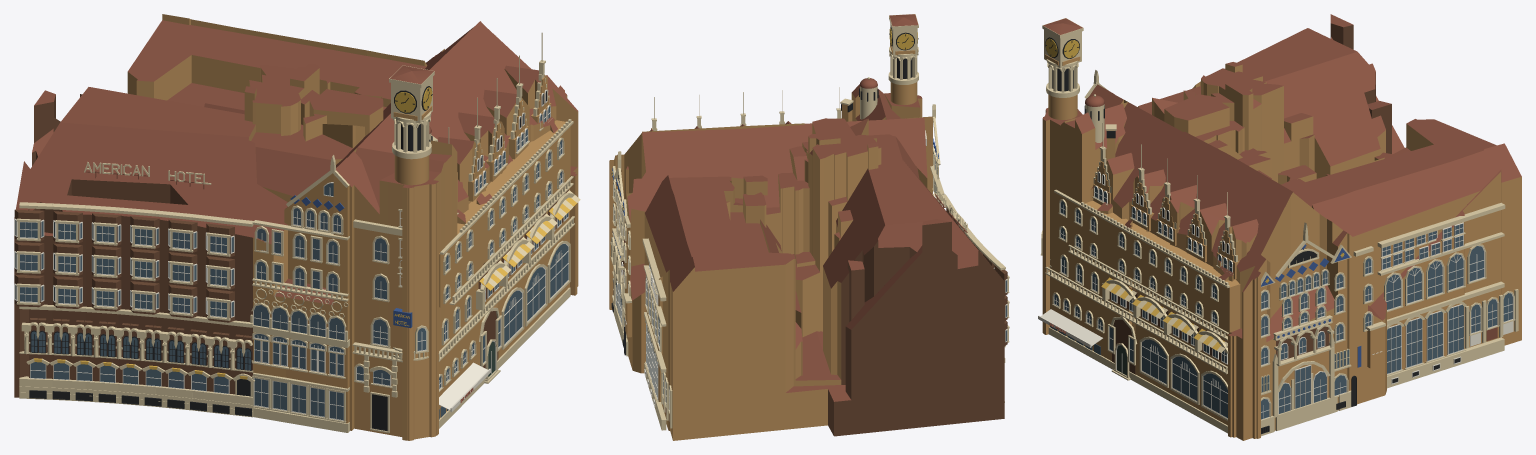
Rendered from american-hotel.glb.
3 renders of one model, left to right at view 1: azimuth 30°, elevation 25°; view 2: azimuth 150°, elevation 25°; view 3: azimuth 270°, elevation 25°, orthographic. The views are drawn at different scales.
Parts seen in each view (by area): view 1: american-hotel; view 2: american-hotel; view 3: american-hotel.
Part boxes in pixels (x1,y1,x2,y2): american-hotel: (14, 14, 580, 440); american-hotel: (609, 14, 1009, 440); american-hotel: (1038, 14, 1521, 440).
Bounding box in the file's own units: 62.5 × 39.92 × 57.3.
